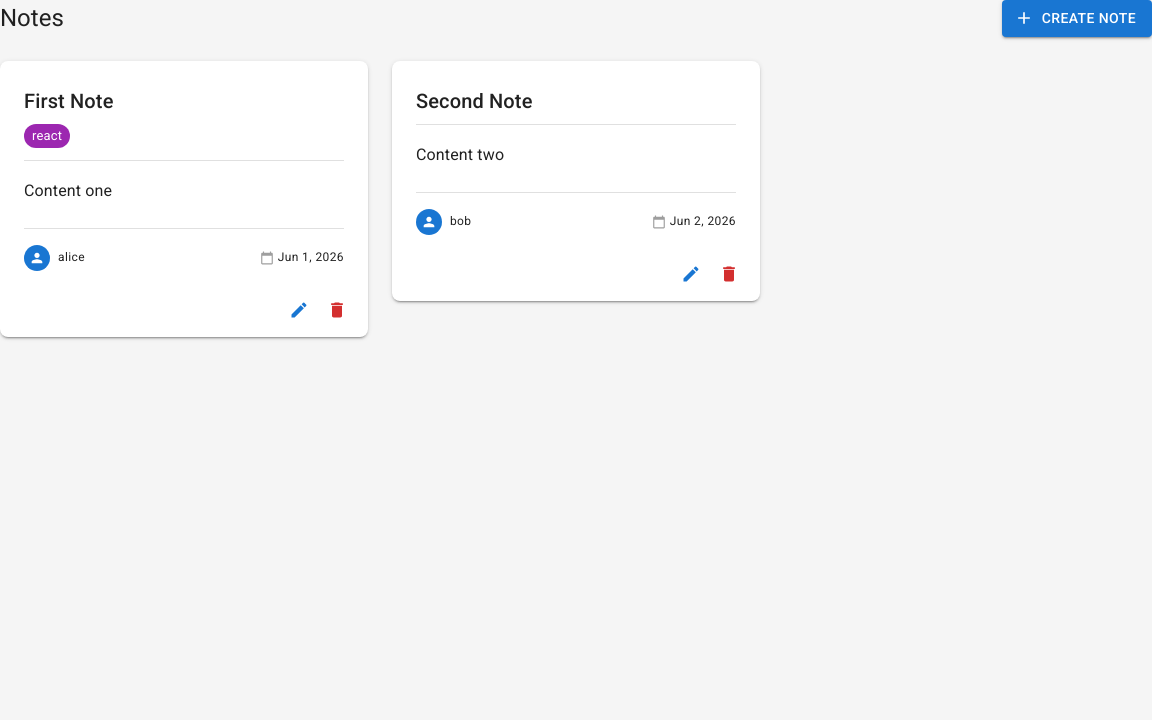
Test: NoteCardGrid › opens the edit dialog pre-populated with note data
Expected: the heading "First Note" is shown, left=24, top=88, right=114, bottom=112
Click the button named "Edit" below "alice" at (299, 310), box left=284, top=295, right=314, bottom=325
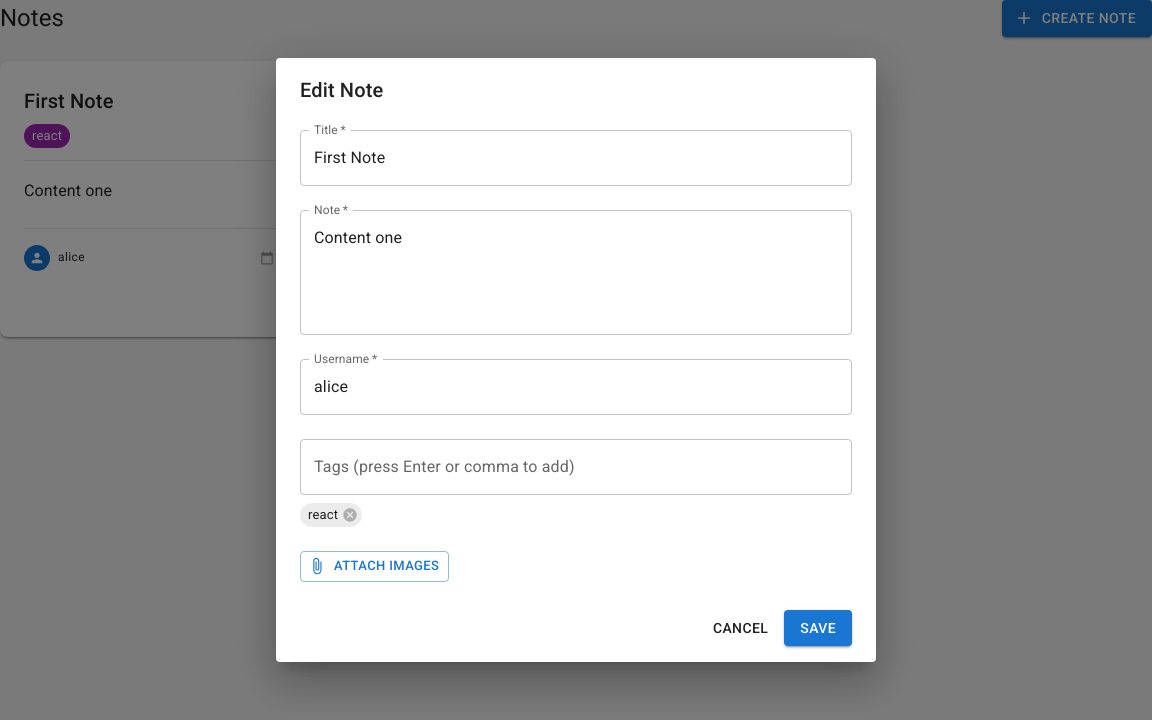
Result: the dialog is shown at left=276, top=58, right=876, bottom=662
Result: the field showing "First Note" is shown at left=300, top=130, right=852, bottom=186
Result: the text box showing "Content one" is shown at left=314, top=226, right=838, bottom=318
